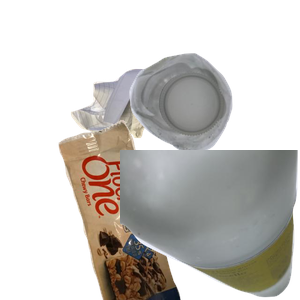glass: (120, 150, 300, 300)
paper: (68, 66, 215, 197)
plastic: (127, 51, 300, 197)
trash: (56, 120, 229, 300)
